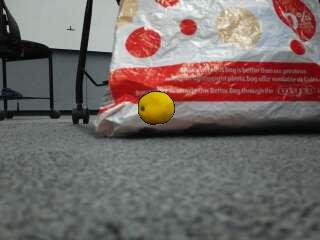lemon: (139, 92, 174, 124)
